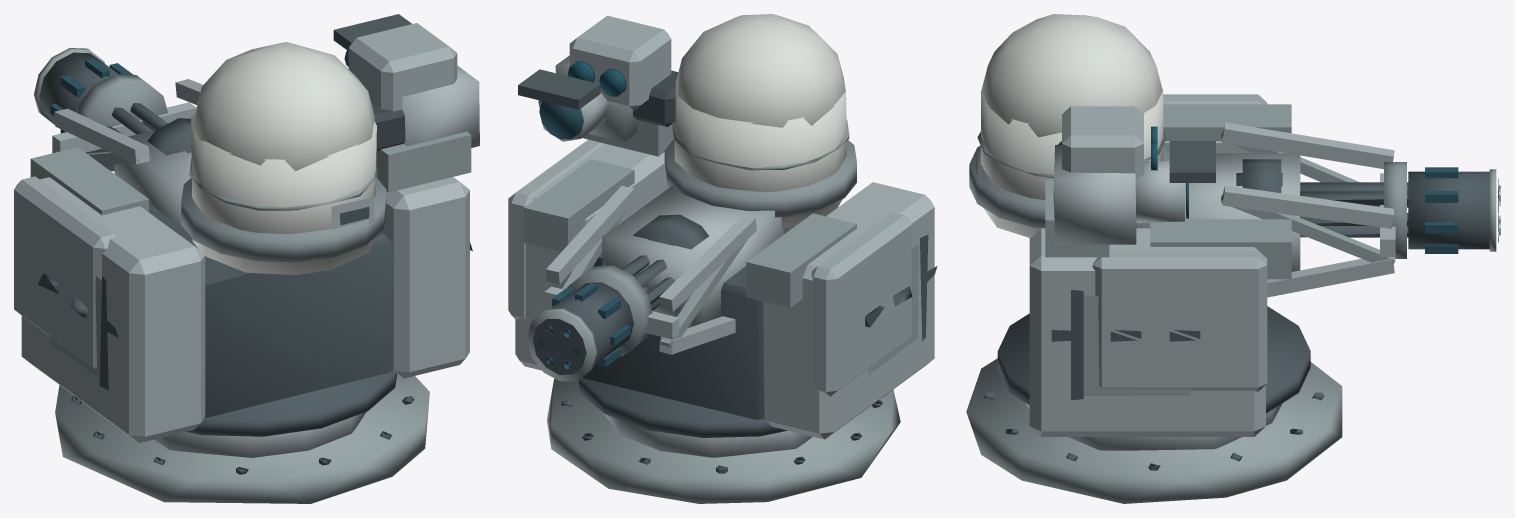
File: MOD_CIWS_U2.fbx
3 renders of one model, left to right at view 1: azimuth 30°, elevation 25°; view 2: azimuth 150°, elevation 25°; view 3: azimuth 270°, elevation 25°, orthographic. The views are drawn at different scales.
Visible parts, largest first — view 1: TurretPivot Naval Blue Grey mesh, TurretPivot Radar Glass mesh, TurretPivot Gunmetal mesh, Deck flange, U2 Port armor panel, TurretPivot Deck Grey mesh, ElevationPivot Naval Blue Grey mesh, MOD_CIWS_Real Gunmetal mesh, U2 dual tracker, U2 radome lower collar, Pedestal neck, BarrelCluster Gunmetal mesh (+5 smaller); view 2: TurretPivot Radar Glass mesh, TurretPivot Naval Blue Grey mesh, Deck flange, ElevationPivot Naval Blue Grey mesh, TurretPivot Gunmetal mesh, TurretPivot Deck Grey mesh, U2 Port armor panel, MOD_CIWS_Real Gunmetal mesh, U2 dual tracker, BarrelCluster Gunmetal mesh, U2 radome lower collar, Pedestal neck (+9 smaller); view 3: TurretPivot Naval Blue Grey mesh, U2 Starboard armor panel, Deck flange, TurretPivot Radar Glass mesh, ElevationPivot Naval Blue Grey mesh, TurretPivot Deck Grey mesh, BarrelCluster Gunmetal mesh, MOD_CIWS_Real Gunmetal mesh, U2 dual tracker, TurretPivot Gunmetal mesh, ElevationPivot Deck Grey mesh, U2 radome lower collar (+6 smaller).
Boxes of the visible parts, <box> form: TurretPivot Naval Blue Grey mesh: <box>21,65,479,442</box>; TurretPivot Radar Glass mesh: <box>191,42,376,274</box>; TurretPivot Gunmetal mesh: <box>37,14,472,418</box>; Deck flange: <box>55,374,429,503</box>; U2 Port armor panel: <box>14,176,116,368</box>; TurretPivot Deck Grey mesh: <box>30,131,471,378</box>; ElevationPivot Naval Blue Grey mesh: <box>52,79,202,230</box>; MOD_CIWS_Real Gunmetal mesh: <box>70,370,414,474</box>; U2 dual tracker: <box>348,23,457,111</box>; U2 radome lower collar: <box>181,177,386,262</box>; Pedestal neck: <box>154,412,366,457</box>; BarrelCluster Gunmetal mesh: <box>39,52,191,153</box>; TurretPivot Radar Glass mesh: <box>674,14,846,228</box>; TurretPivot Naval Blue Grey mesh: <box>515,55,934,439</box>; Deck flange: <box>547,378,900,503</box>; ElevationPivot Naval Blue Grey mesh: <box>544,185,783,354</box>; TurretPivot Gunmetal mesh: <box>518,69,937,419</box>; TurretPivot Deck Grey mesh: <box>524,120,918,375</box>; U2 Port armor panel: <box>811,212,911,396</box>; MOD_CIWS_Real Gunmetal mesh: <box>561,378,882,473</box>; U2 dual tracker: <box>569,15,671,110</box>; BarrelCluster Gunmetal mesh: <box>533,239,674,374</box>; U2 radome lower collar: <box>664,139,856,217</box>; Pedestal neck: <box>602,412,812,457</box>; TurretPivot Naval Blue Grey mesh: <box>979,141,1265,436</box>; U2 Starboard armor panel: <box>1092,250,1267,391</box>; Deck flange: <box>966,358,1342,503</box>; TurretPivot Radar Glass mesh: <box>981,14,1163,237</box>; ElevationPivot Naval Blue Grey mesh: <box>1136,122,1395,297</box>; TurretPivot Deck Grey mesh: <box>977,104,1291,395</box>; BarrelCluster Gunmetal mesh: <box>1236,171,1498,249</box>; MOD_CIWS_Real Gunmetal mesh: <box>984,306,1324,470</box>; U2 dual tracker: <box>1062,106,1143,179</box>; TurretPivot Gunmetal mesh: <box>976,141,1215,400</box>; ElevationPivot Deck Grey mesh: <box>1221,131,1395,264</box>; U2 radome lower collar: <box>969,145,1169,228</box>.
Bounding box in the file's own units: 165 × 173 × 208.
